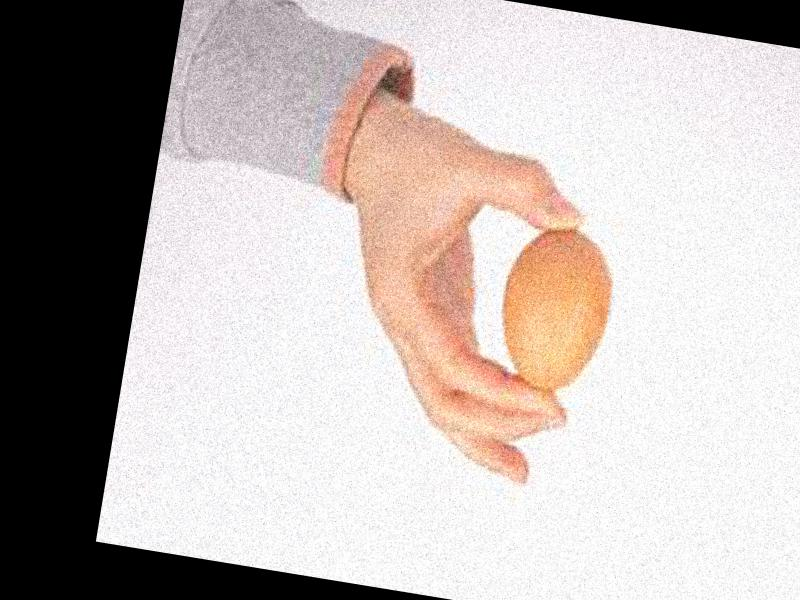Eggs: (492, 225, 620, 402)
